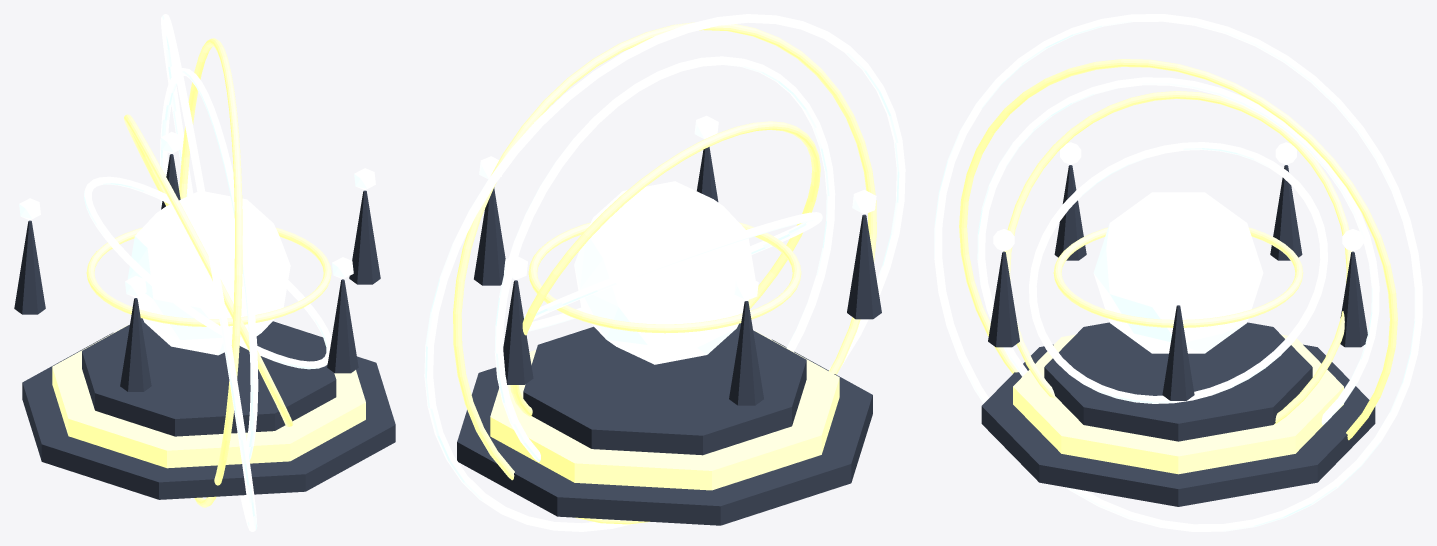
The model's file is gpu-blender-v46.glb.
The picture shows the model from 3 angles, left to right: view 1: azimuth 30°, elevation 25°; view 2: azimuth 150°, elevation 25°; view 3: azimuth 270°, elevation 25°; orthographic projection. The views are drawn at different scales.
Visible parts, largest first — view 1: Cylinder.002, Cylinder, SovereignCore_agent-policy-auditor, Cylinder.001, Torus.005, Torus.004, Torus.001, Torus.003, Torus, Torus.002, Cone.004, Cone.002 (+2 smaller); view 2: Cylinder.002, SovereignCore_agent-policy-auditor, Cylinder, Cylinder.001, Torus.005, Torus.003, Torus.004, Torus.002, Torus, Torus.001, Cone.003, Cone.002 (+3 smaller); view 3: SovereignCore_agent-policy-auditor, Cylinder.002, Cylinder, Cylinder.001, Torus.005, Torus.004, Torus.001, Torus.003, Torus.002, Torus, Cone.004, Cone (+3 smaller).
Boxes of the visible parts, x1,y1,x2,y2 form: Cylinder.002: (82, 318, 336, 436); Cylinder: (22, 332, 395, 499); SovereignCore_agent-policy-auditor: (127, 191, 290, 355); Cylinder.001: (52, 325, 365, 468); Torus.005: (161, 14, 257, 531); Torus.004: (179, 38, 242, 507); Torus.001: (84, 176, 331, 369); Torus.003: (160, 68, 258, 459); Torus: (86, 227, 331, 326); Torus.002: (124, 114, 293, 426); Cone.004: (327, 279, 358, 373); Cone.002: (14, 220, 45, 314); Cylinder.002: (523, 323, 806, 455); SovereignCore_agent-policy-auditor: (574, 181, 755, 364); Cylinder: (457, 339, 872, 525); Cylinder.001: (490, 330, 839, 490); Torus.005: (424, 14, 905, 531); Torus.003: (494, 56, 835, 461); Torus.004: (453, 22, 876, 524); Torus.002: (510, 121, 820, 416); Torus: (528, 222, 801, 333); Torus.001: (523, 212, 822, 331); Cone.003: (847, 214, 881, 319); Cone.002: (729, 301, 763, 405); SovereignCore_agent-policy-auditor: (1093, 192, 1263, 353); Cylinder.002: (1044, 322, 1312, 441); Cylinder: (981, 344, 1375, 506); Cylinder.001: (1013, 334, 1343, 474); Torus.005: (934, 14, 1422, 531); Torus.004: (959, 59, 1397, 440); Torus.001: (1029, 142, 1327, 403); Torus.003: (977, 77, 1379, 424); Torus.002: (1004, 91, 1352, 423); Torus: (1053, 227, 1303, 327); Cone.004: (988, 251, 1019, 347); Cone: (1162, 305, 1194, 400).
Size of the model in its own units: 4.41 by 5.93 by 5.46.
